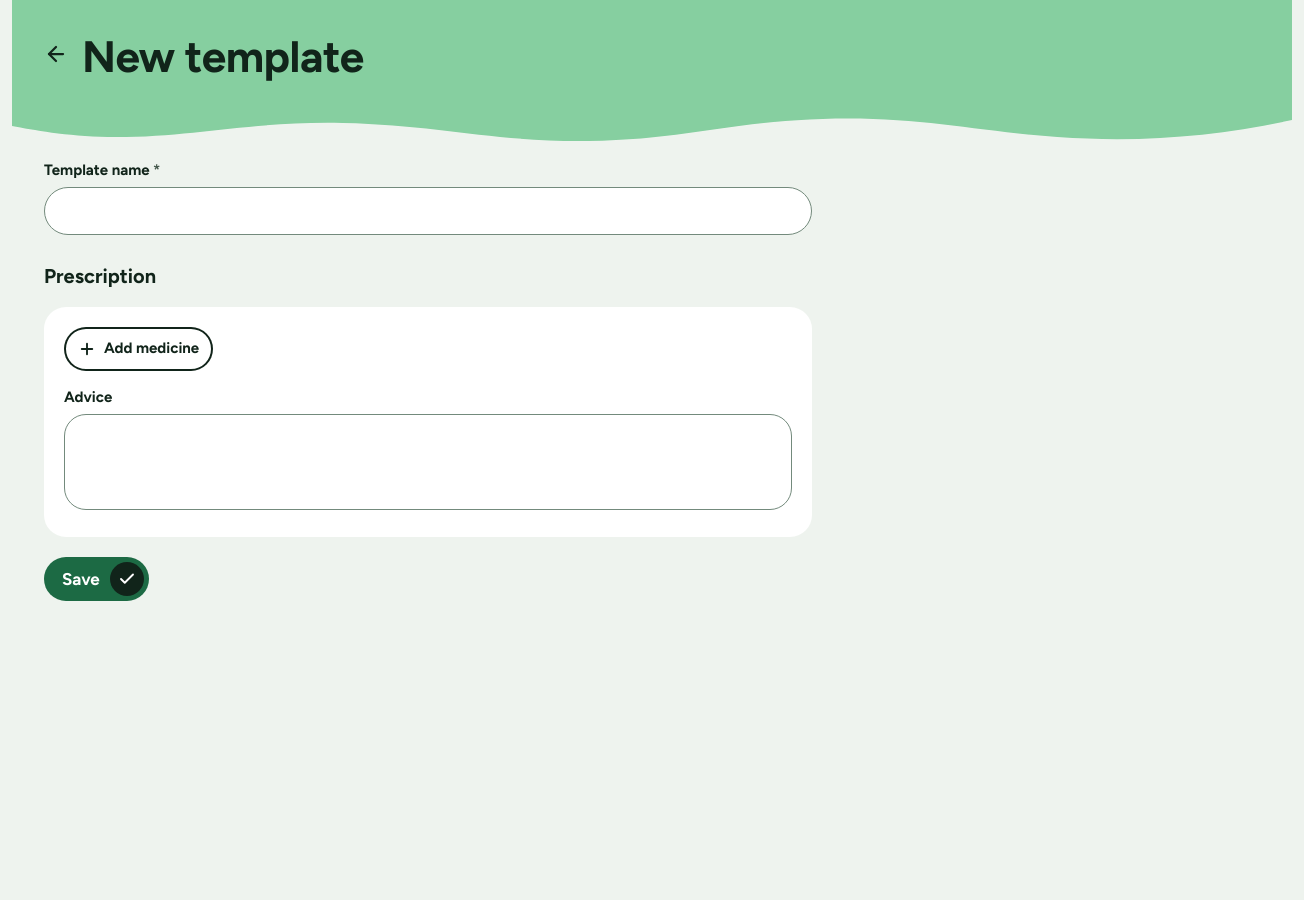
Test case: TemplateEditor for a new template (D242, D243) › starts blank, asks for a name and a medicine or advice, and reads nothing
Expected: the heading "New template" is shown, [82,30,364,83]
Click the button "Save".
click(96, 579)  # box [44,557,149,601]
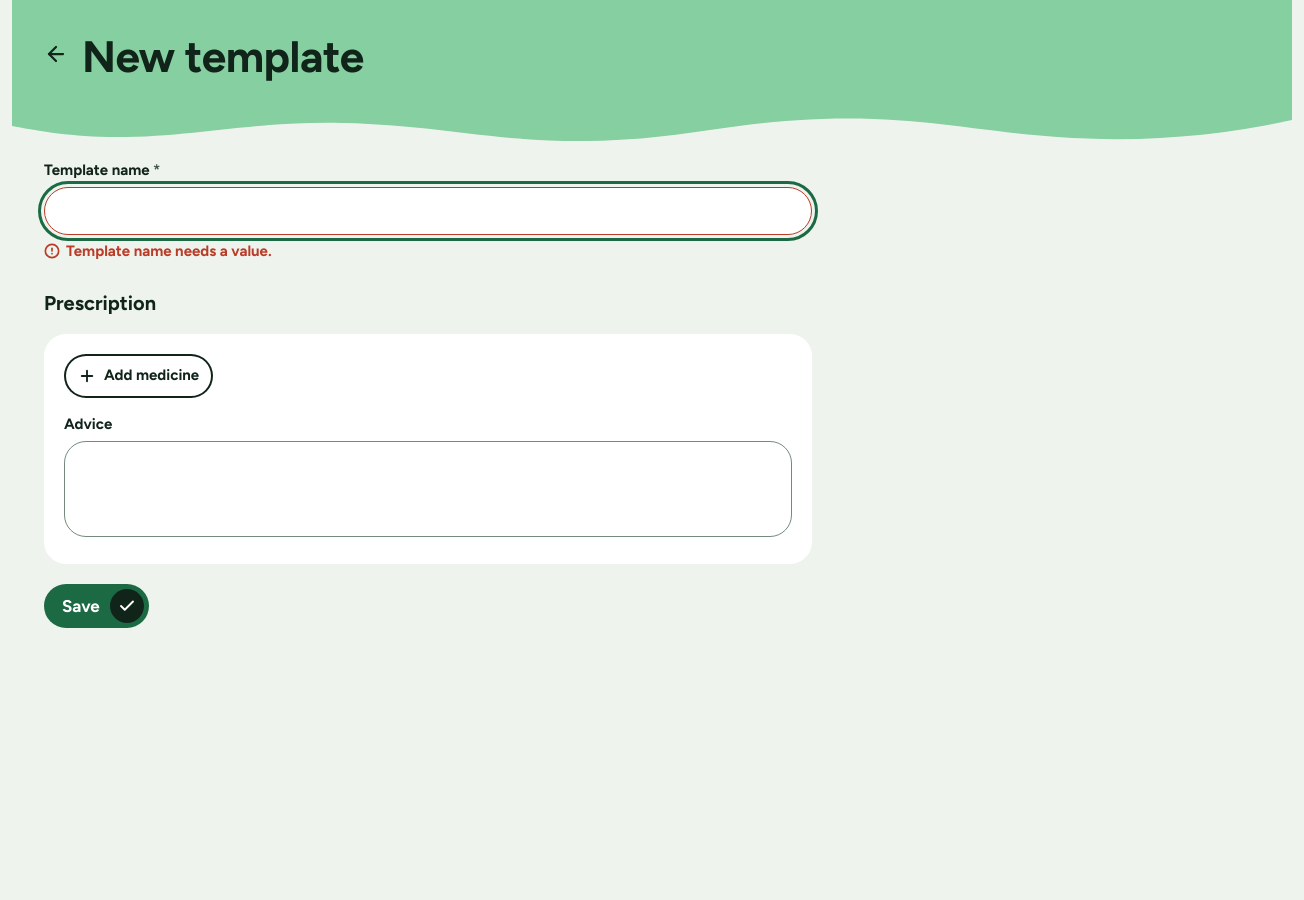
Expected: the text "Template name needs a value." is shown, [44,242,272,260]
Type "Empty" into the field labelled "Template name *".
click(428, 211); type("Empty")  # box [44,187,812,235]
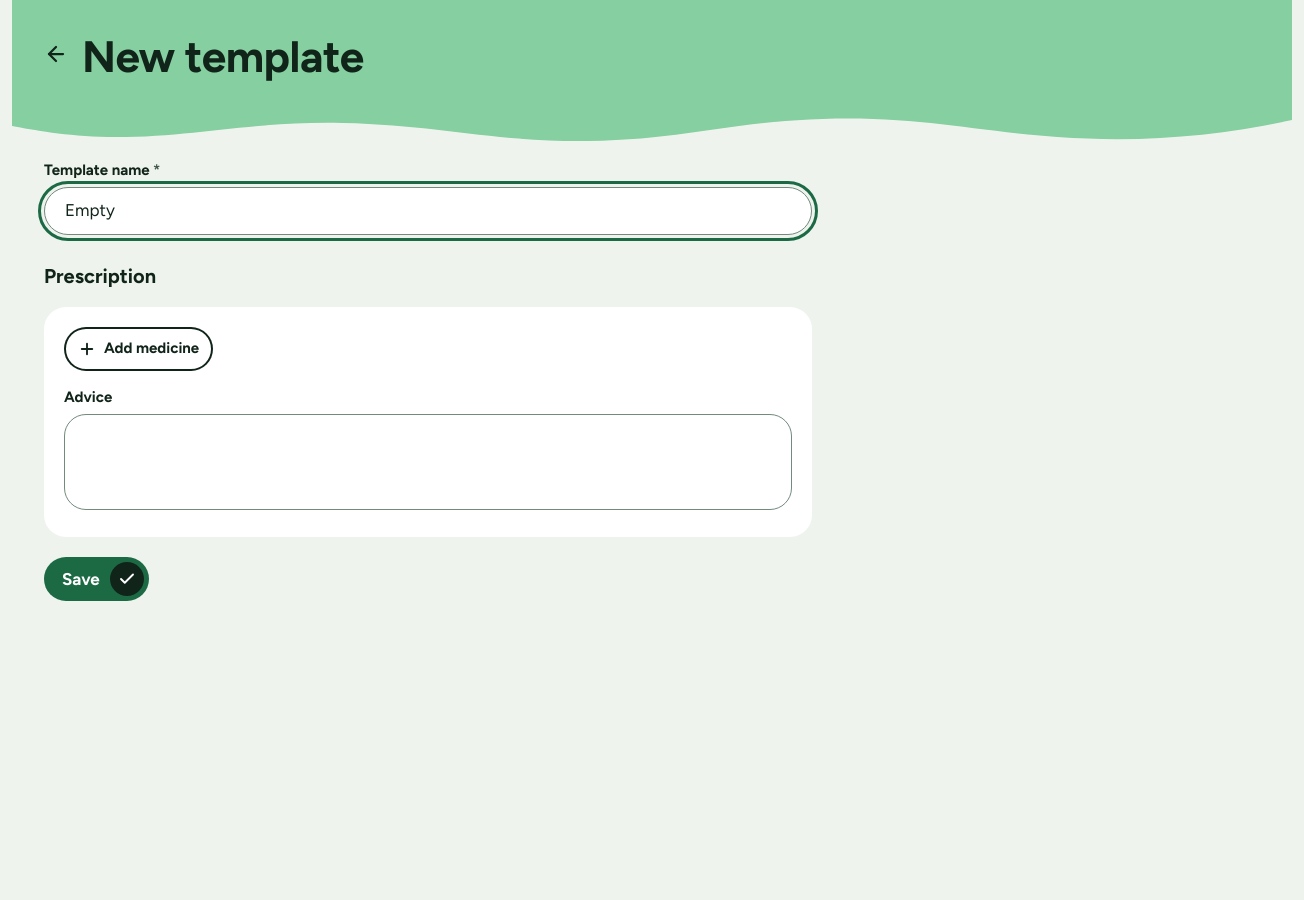
Click the button "Save".
click(96, 579)  # box [44,557,149,601]
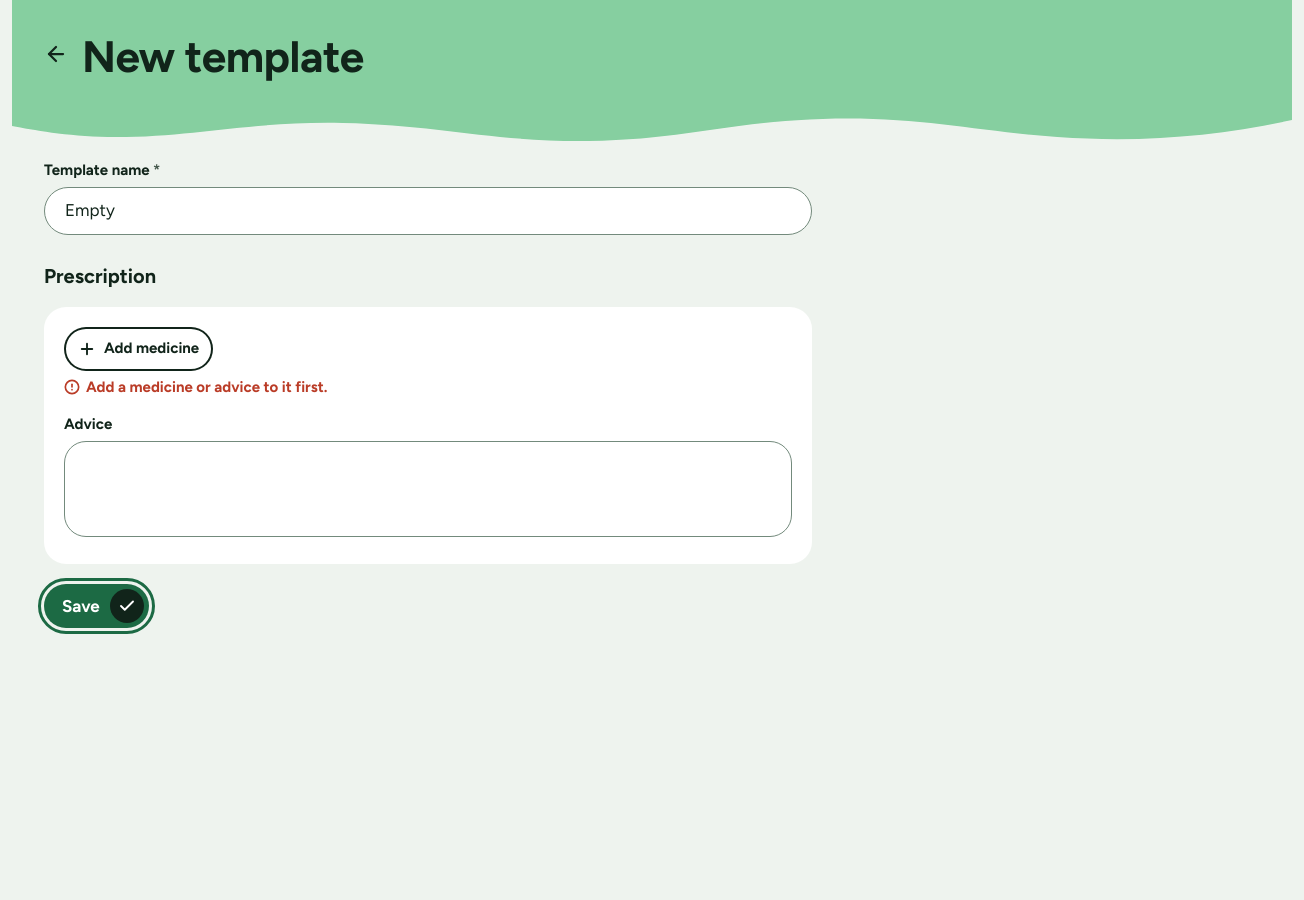
Expected: the text "Add a medicine or advice to it first." is shown, [64,378,328,396]
